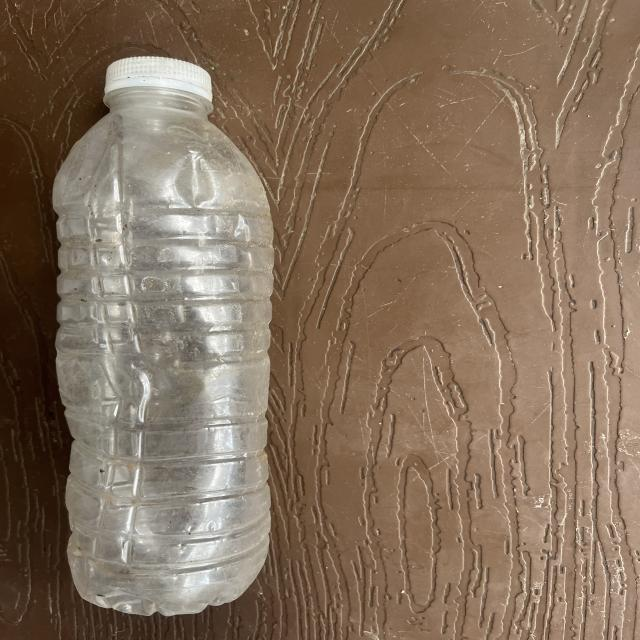REJECT: (28, 65, 526, 630)
